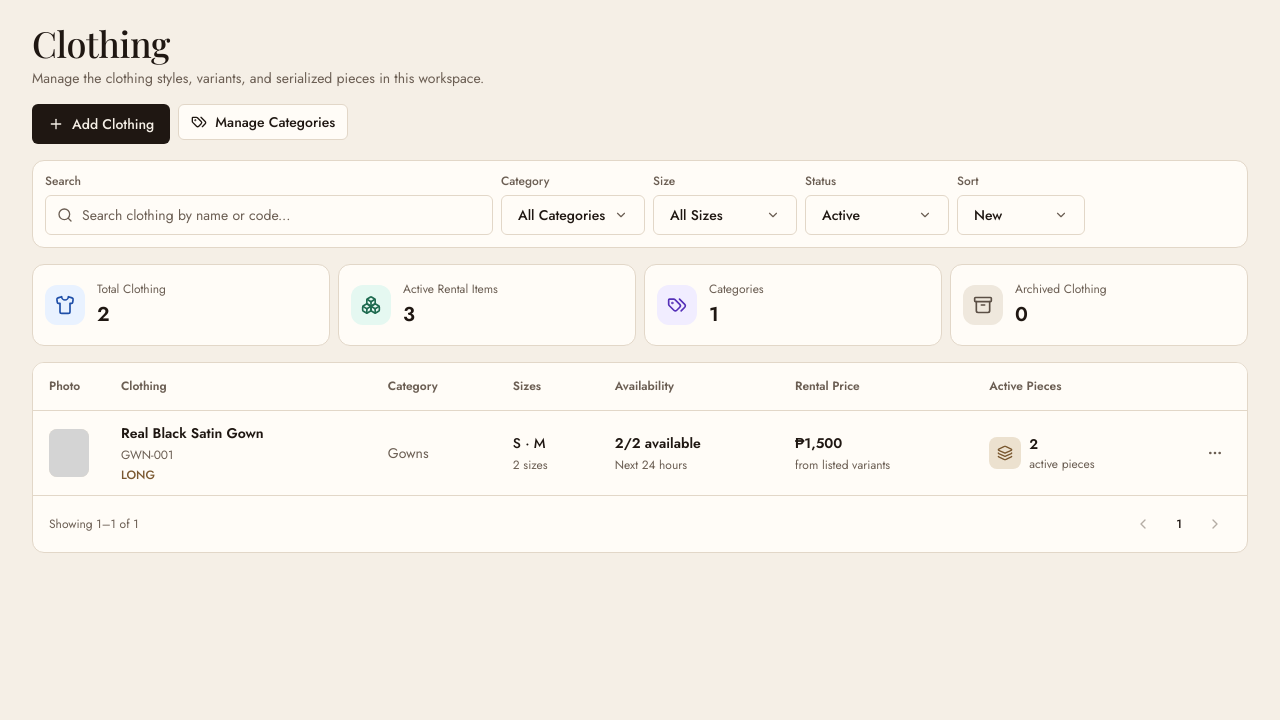
Test: ClothingPage › defaults sorting to New and changes server-side ordering with URL-backed sort state
Expected: the button named "Status Active" is shown, x1=805 y1=195 x2=949 y2=235
Press the mouse on the button named "Sort New" at (1021, 215), box x1=957 y1=195 x2=1085 y2=235
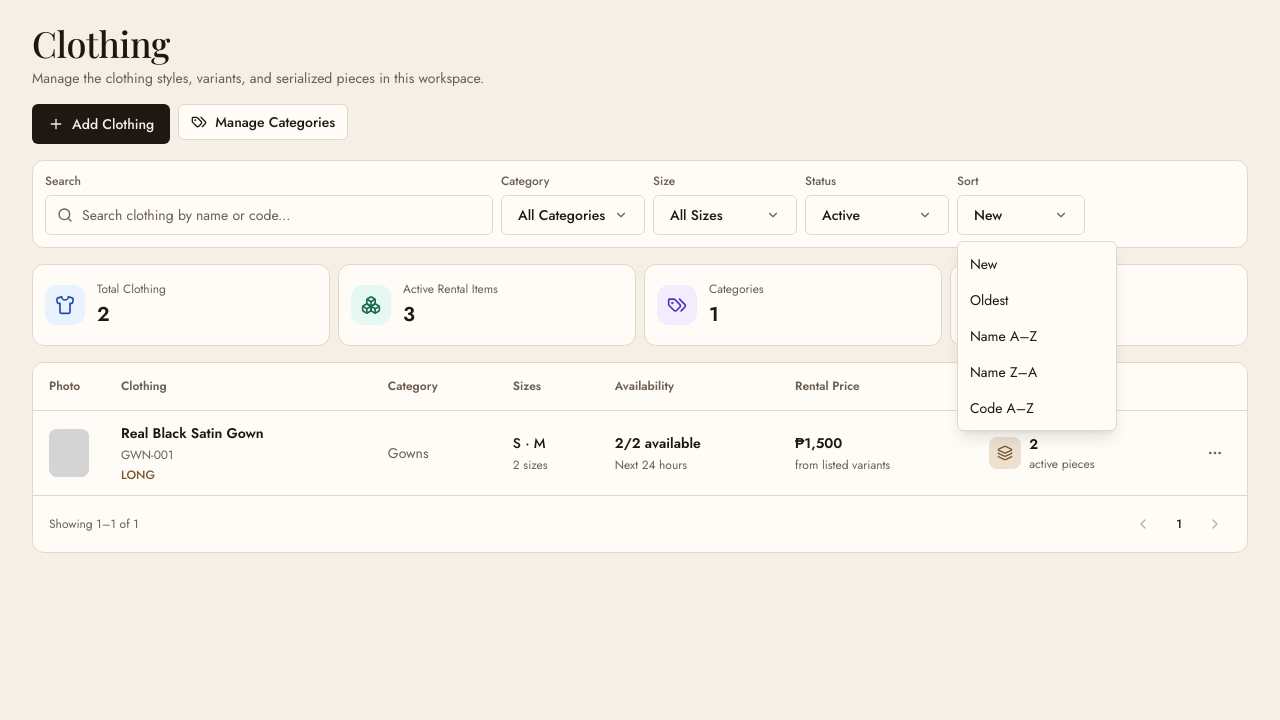
Click the menu item "Oldest".
click(989, 300)  # box x1=970 y1=290 x2=1008 y2=310
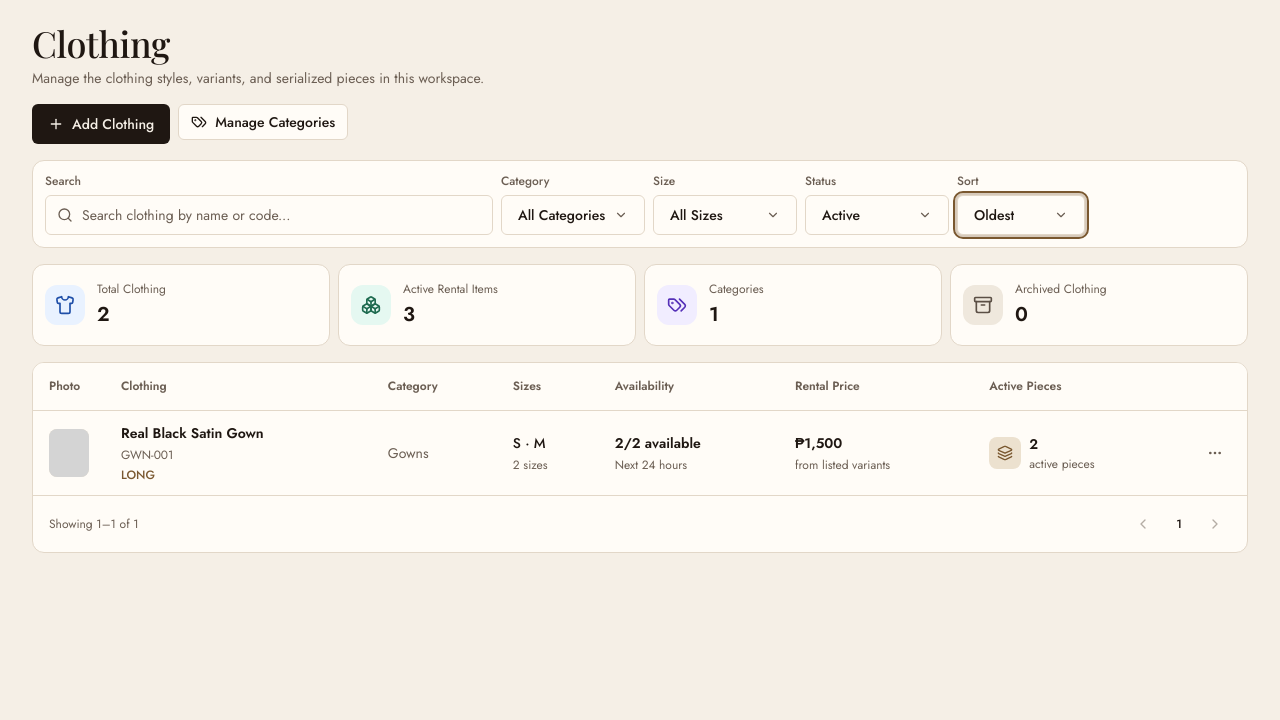
Now the button named "Sort Oldest" reads "Oldest", box x1=957 y1=195 x2=1085 y2=235
